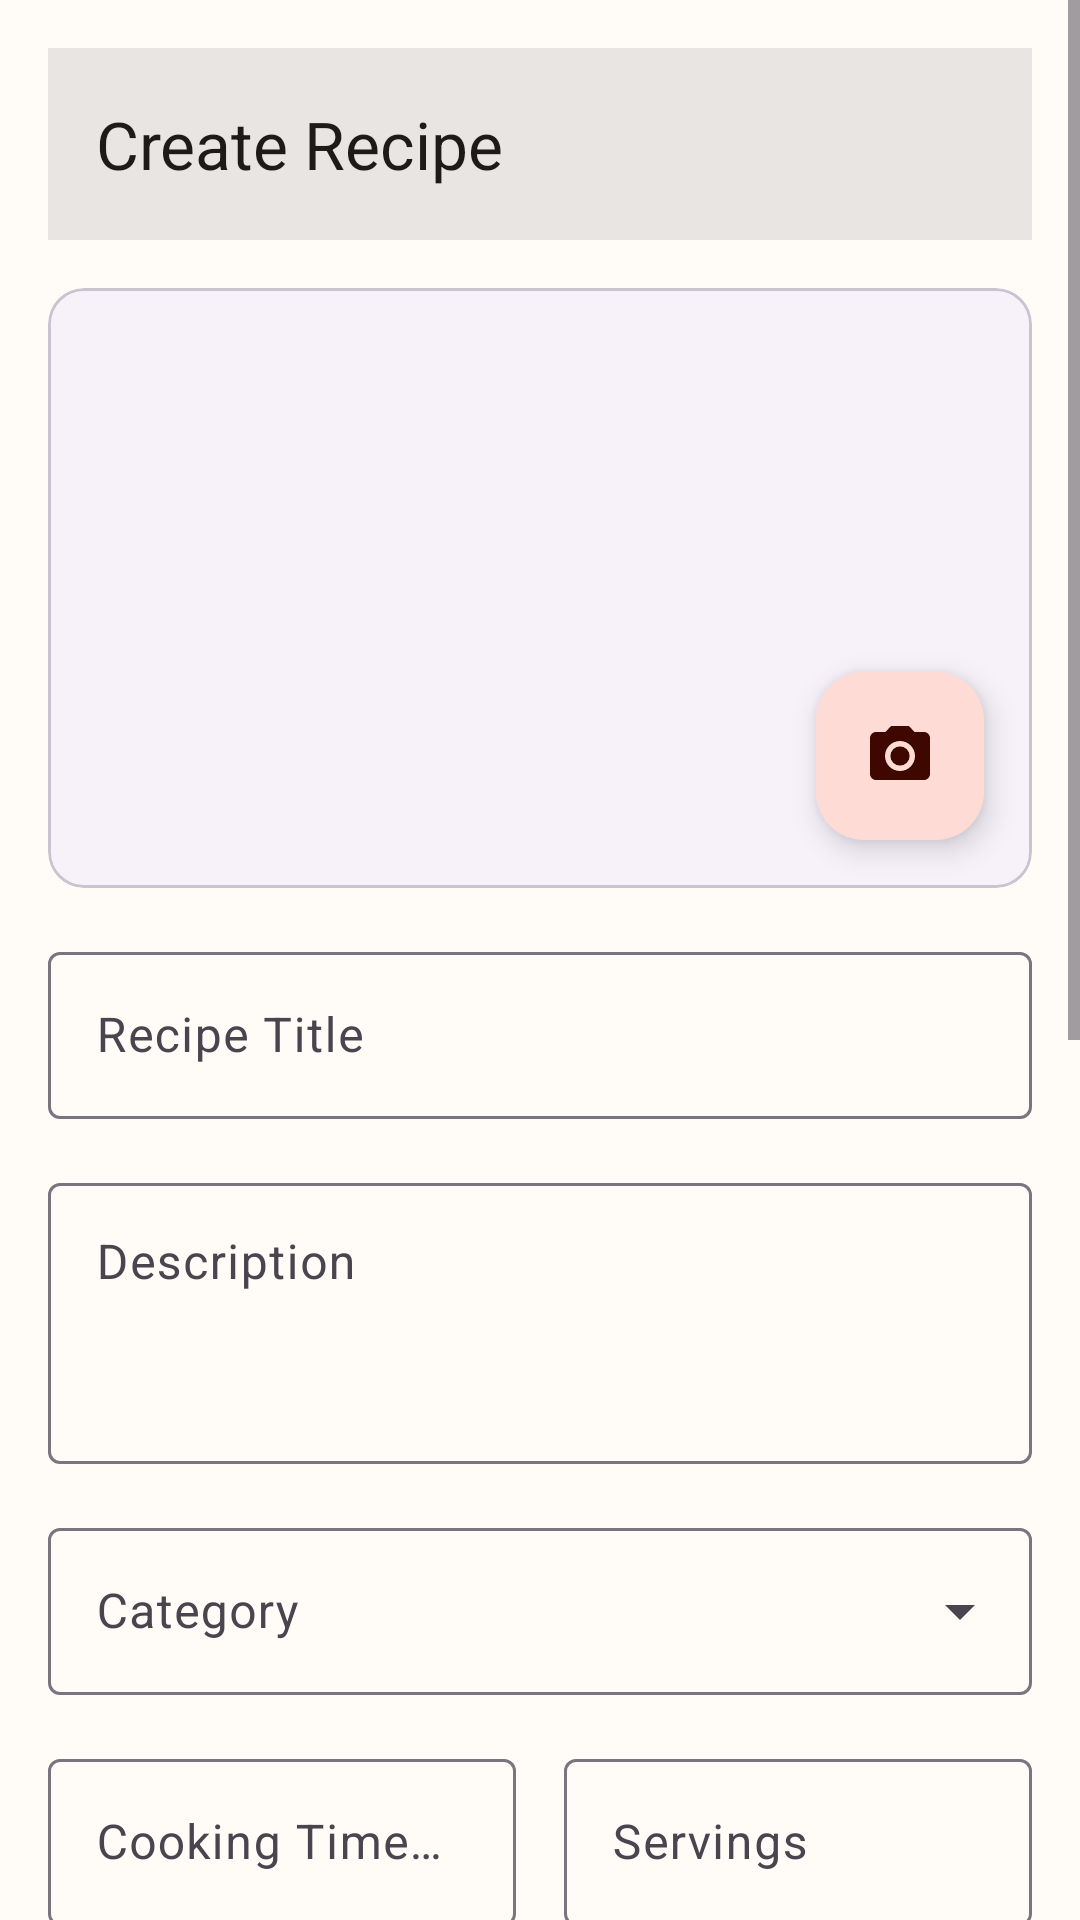

Named icons in this screenshot (1080px x 1920px) and their bounding boxes, bbox(x1, y1, x2, y2):
Add Image: bbox(816, 672, 984, 840)
